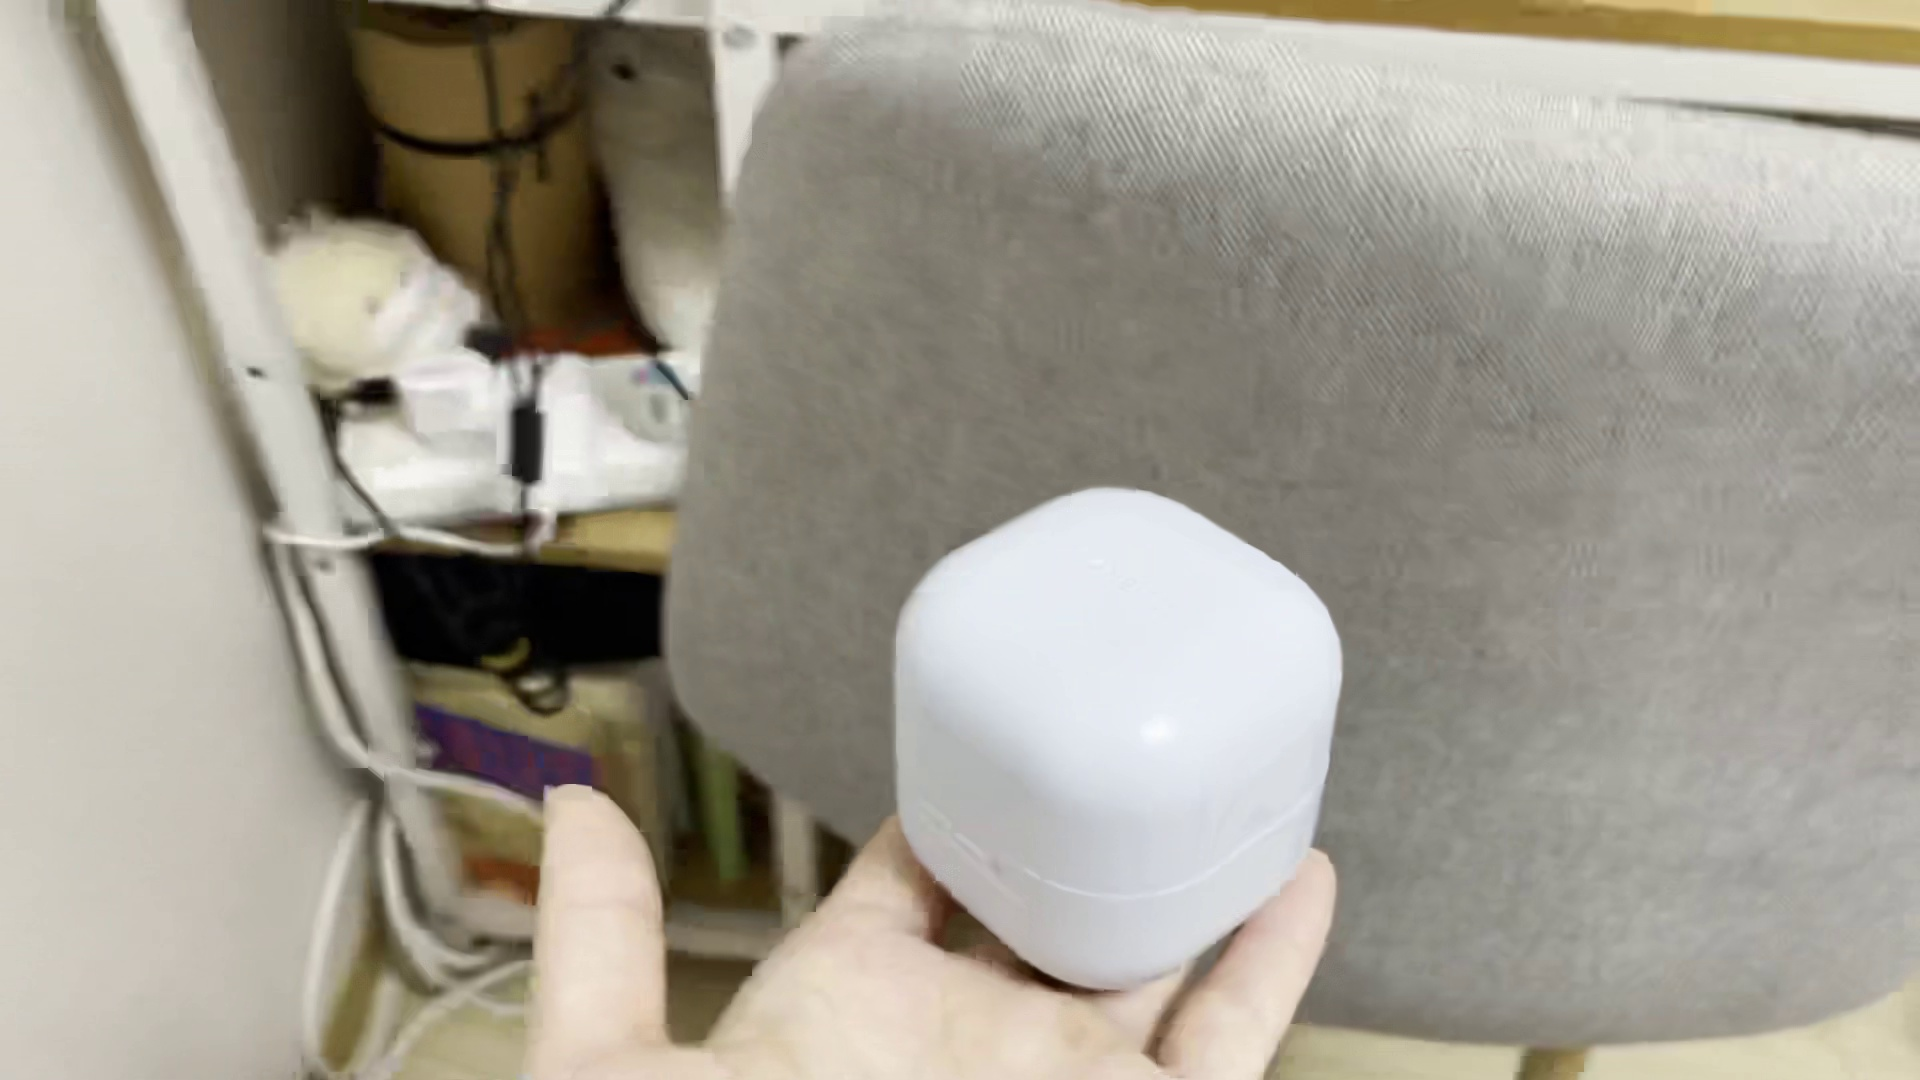cream: (894, 488, 1344, 990)
